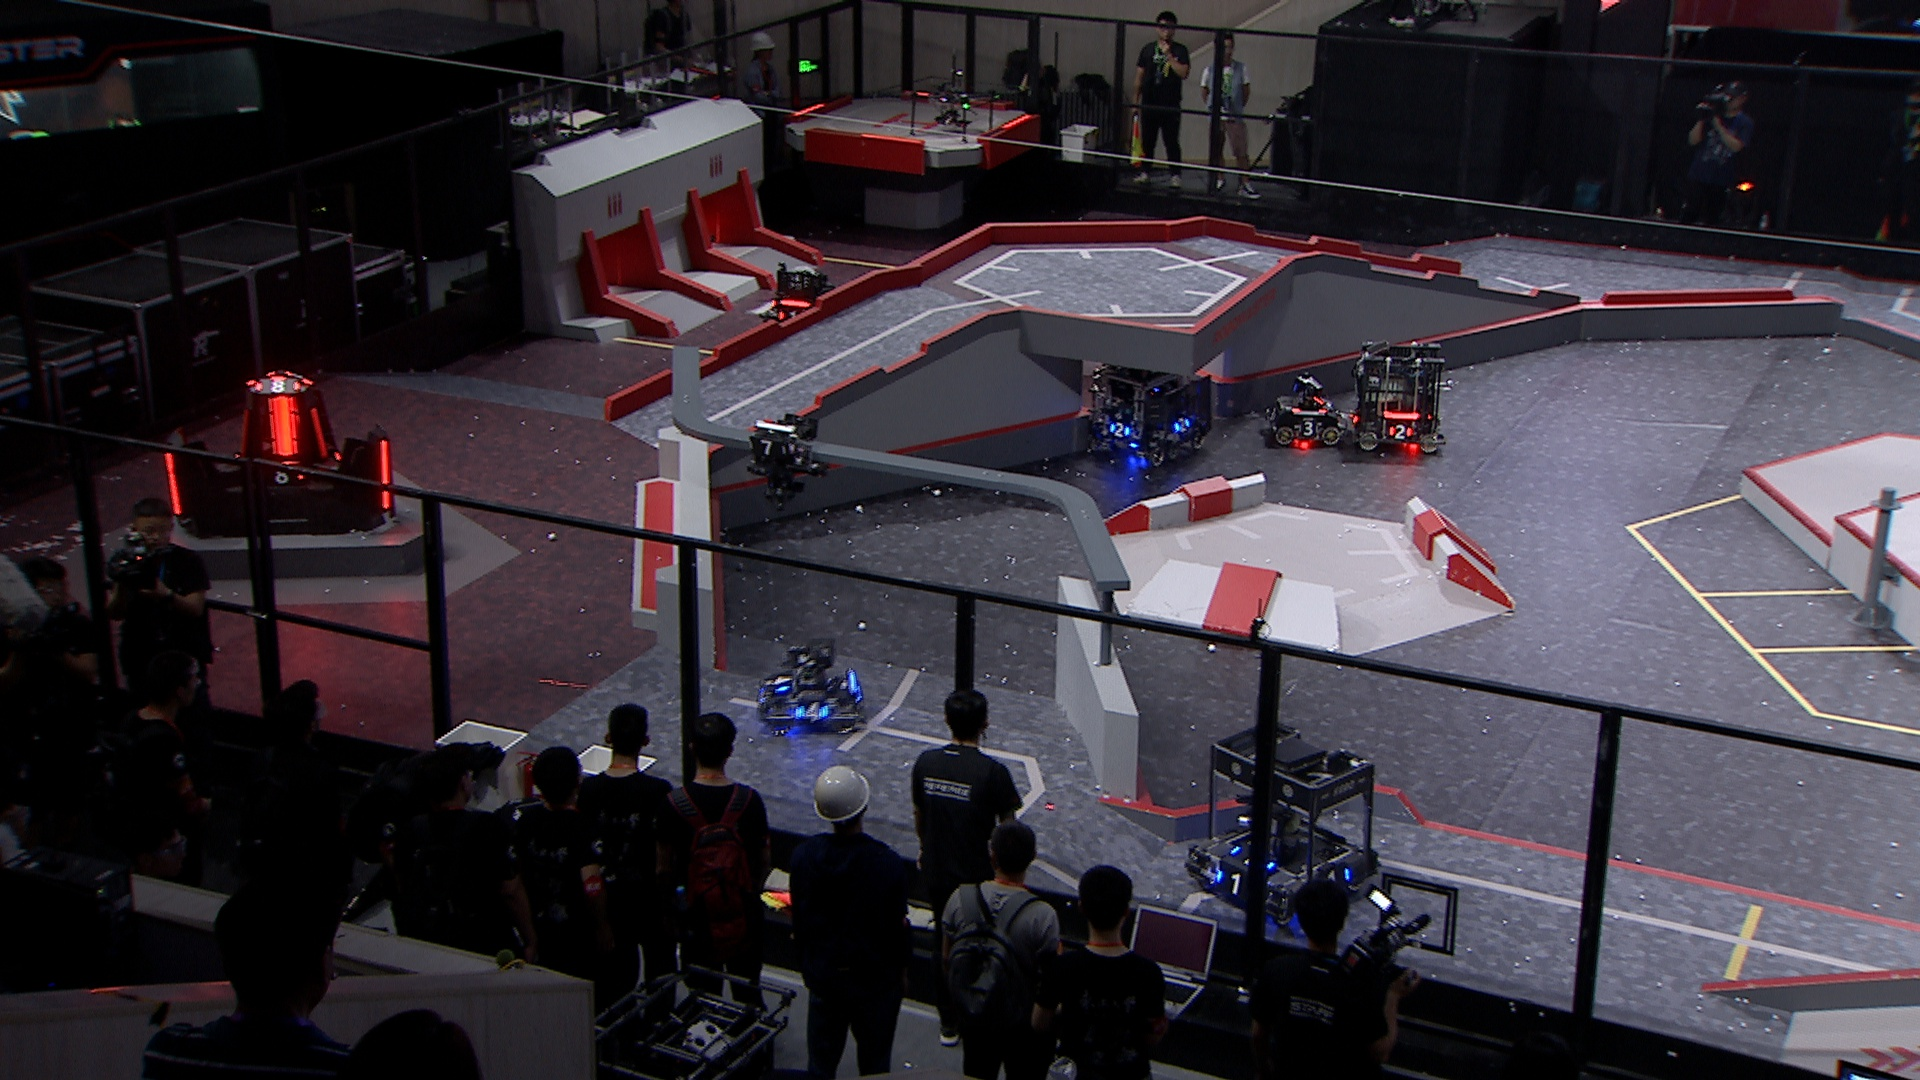armor: (264, 394, 301, 460), (375, 438, 396, 510), (162, 451, 185, 518), (1212, 866, 1247, 901), (309, 405, 328, 460), (233, 407, 253, 462), (253, 377, 305, 396), (746, 436, 789, 458), (793, 700, 832, 723), (266, 469, 305, 488), (1324, 864, 1353, 884), (767, 671, 793, 694), (1105, 419, 1133, 439), (1386, 425, 1414, 442), (1298, 419, 1320, 440), (1171, 415, 1195, 434), (775, 309, 802, 324)
base: (161, 367, 398, 541)
car: (1182, 717, 1379, 924), (1087, 356, 1215, 469), (1352, 342, 1448, 458), (756, 638, 868, 733), (756, 266, 849, 339), (1262, 373, 1348, 452)
watcher: (742, 410, 825, 502)
